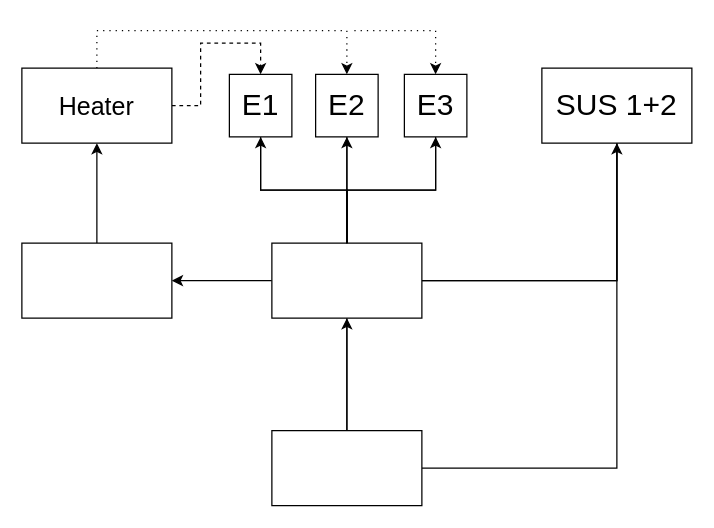
Some shapes in this 714 by 528 pixel diagram are drawn without their labels. The shapes that lost their labels are listed below. From the top down, each one's centre as x and y in pixels, then its label:
the point at 96,280: BCDU
the point at 346,280: STM32
the point at 346,467: OBC
